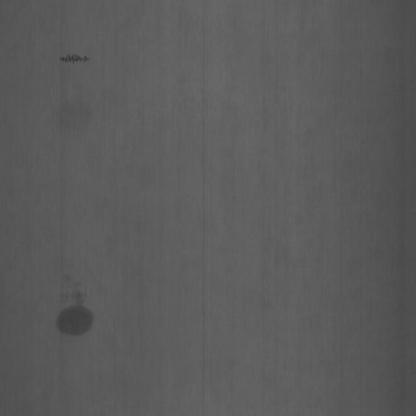oil_spot: (48, 288, 104, 352), (55, 44, 95, 72)
